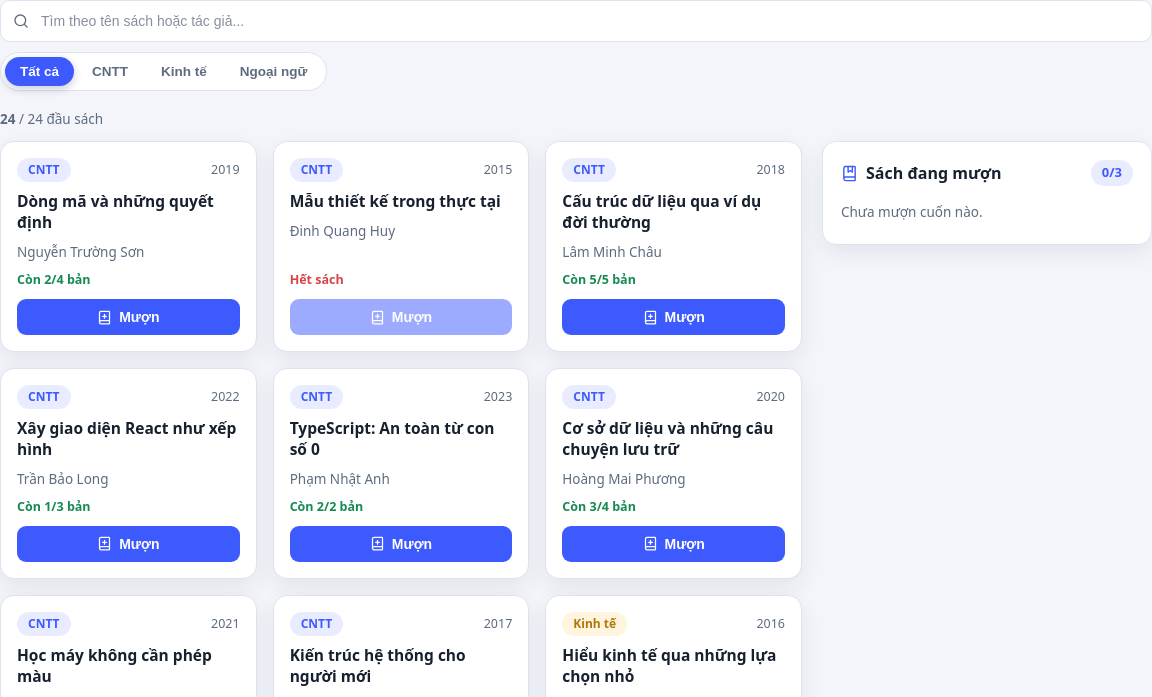
Test: BooksPage (tích hợp) › chặn mượn cuốn thứ 4 và hiện cảnh báo giới hạn
Check: the heading "Dòng mã và những quyết định" is shown, box [17,191,240,233]
Click the button "Mượn" below "Còn 2/4 bản".
click(128, 317)  # box [17,299,240,335]
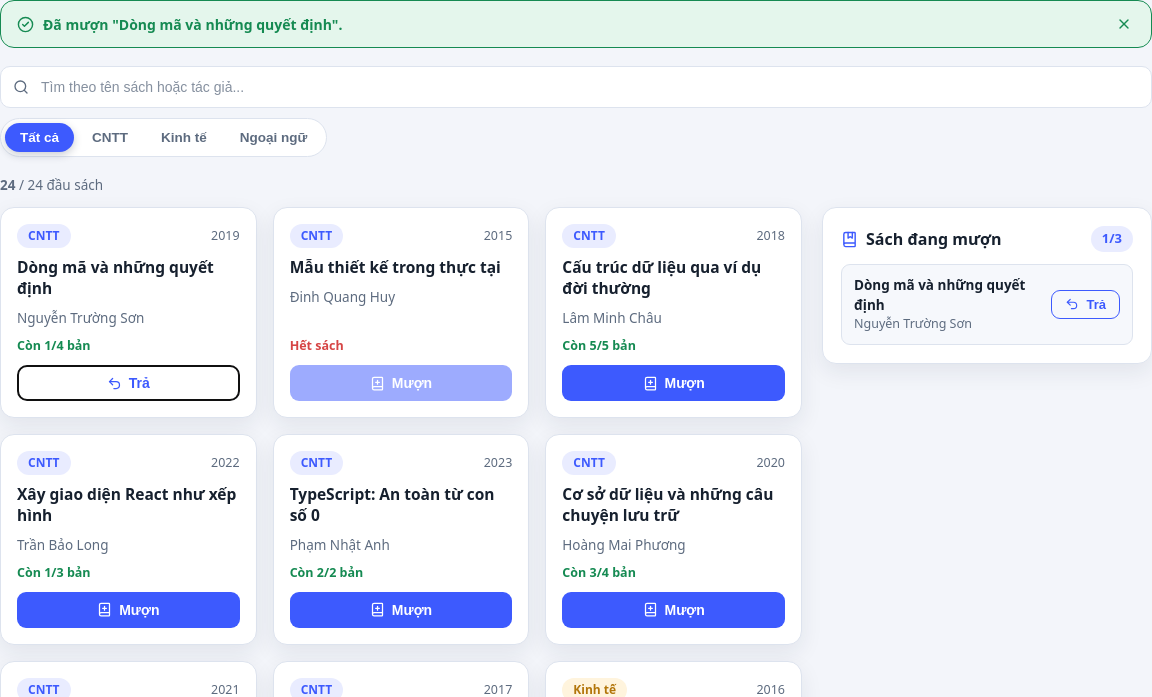
Click the button "Mượn" below "Còn 5/5 bản".
click(674, 383)  # box [562,365,785,401]
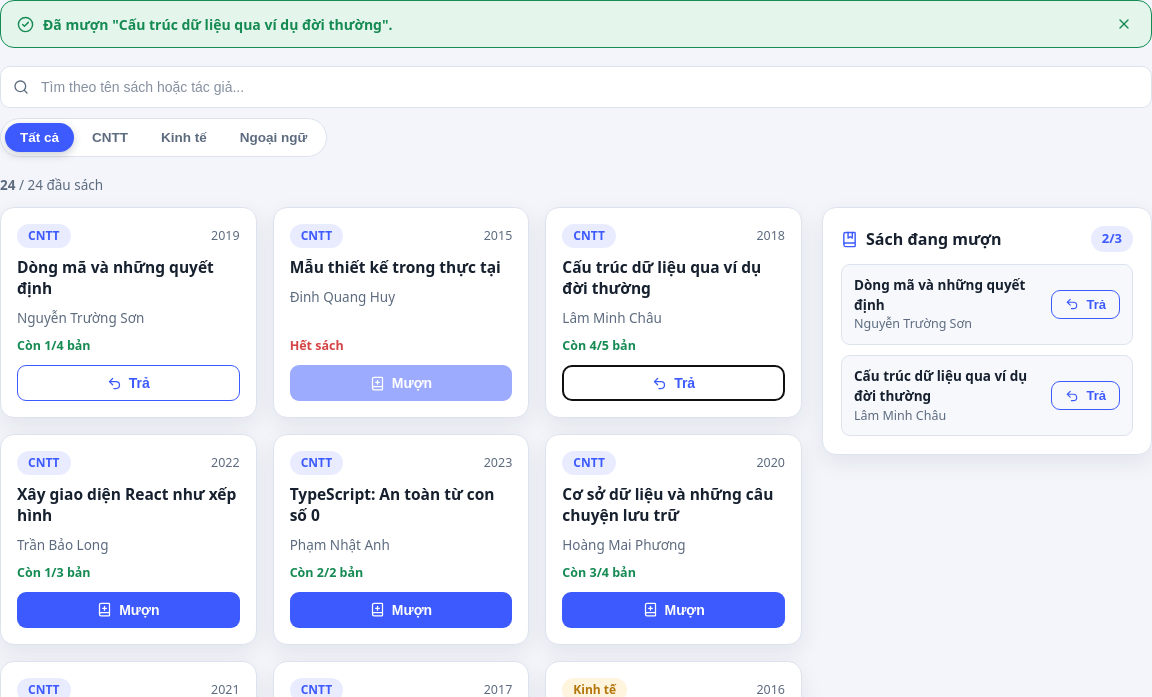
Click the button "Mượn" below "Trần Bảo Long".
click(128, 610)  # box [17,592,240,628]
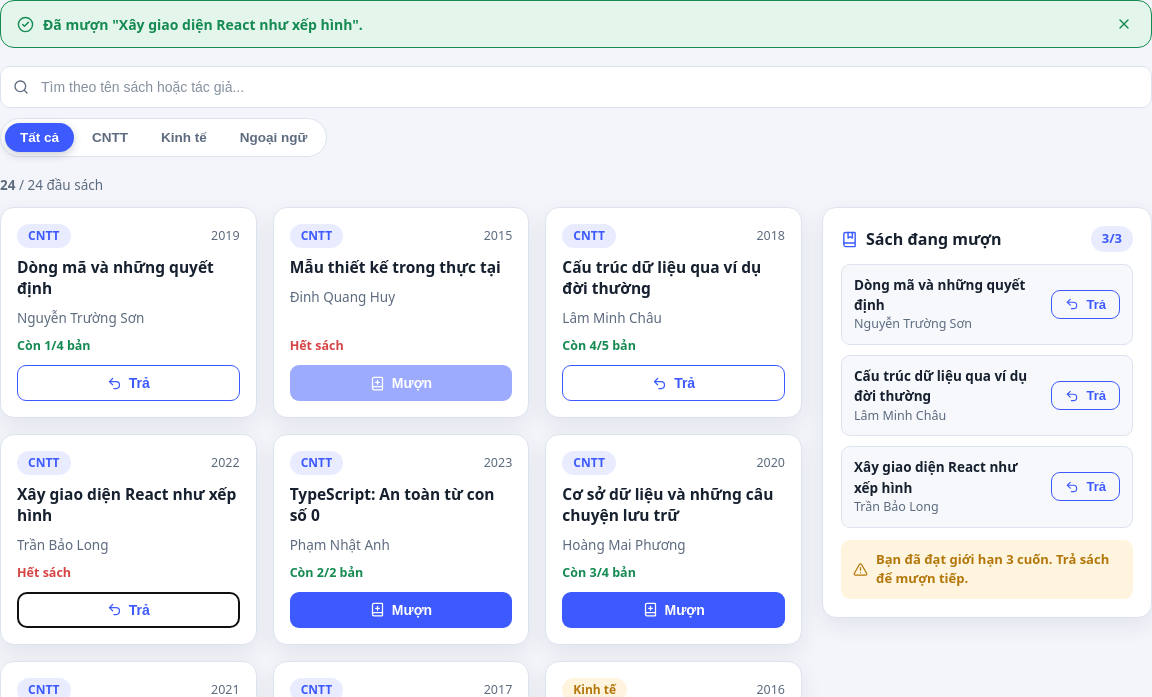
Check: the text "3/3" is shown, box [1091,226,1133,252]
Click the button "Mượn" below "Phạm Nhật Anh".
click(401, 610)  # box [290,592,512,628]
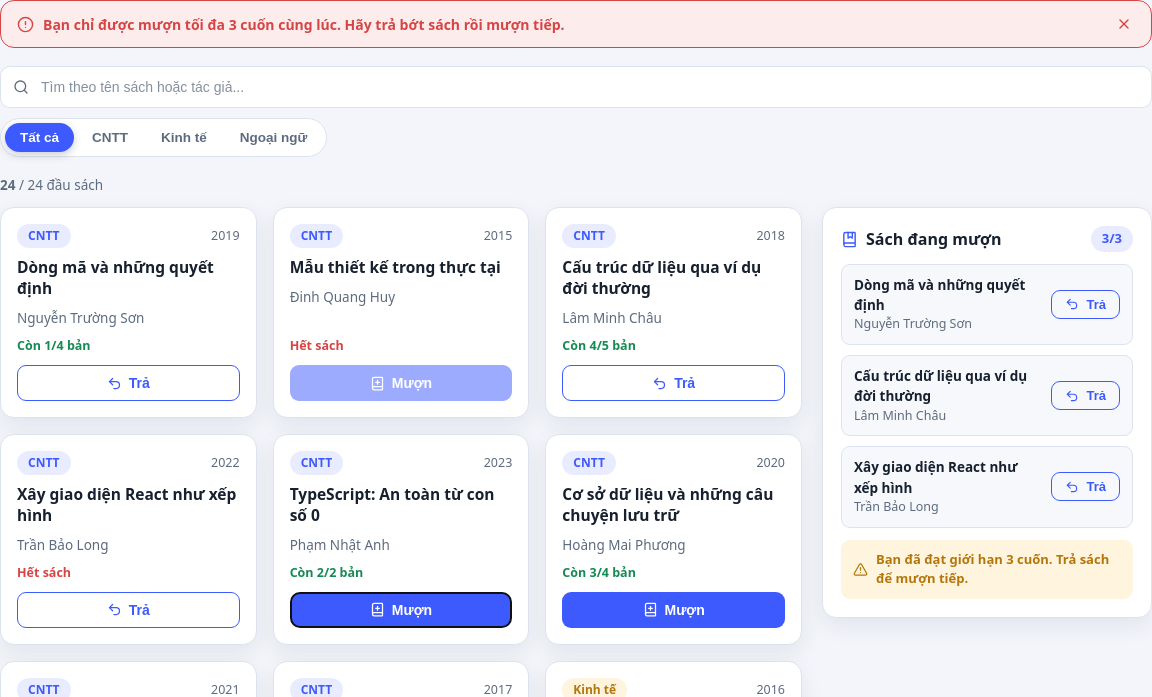
Check: the text "3/3" is shown, box [1091,226,1133,252]
Check: the text "tối đa 3 cuốn" is shown, box [43,14,564,34]
